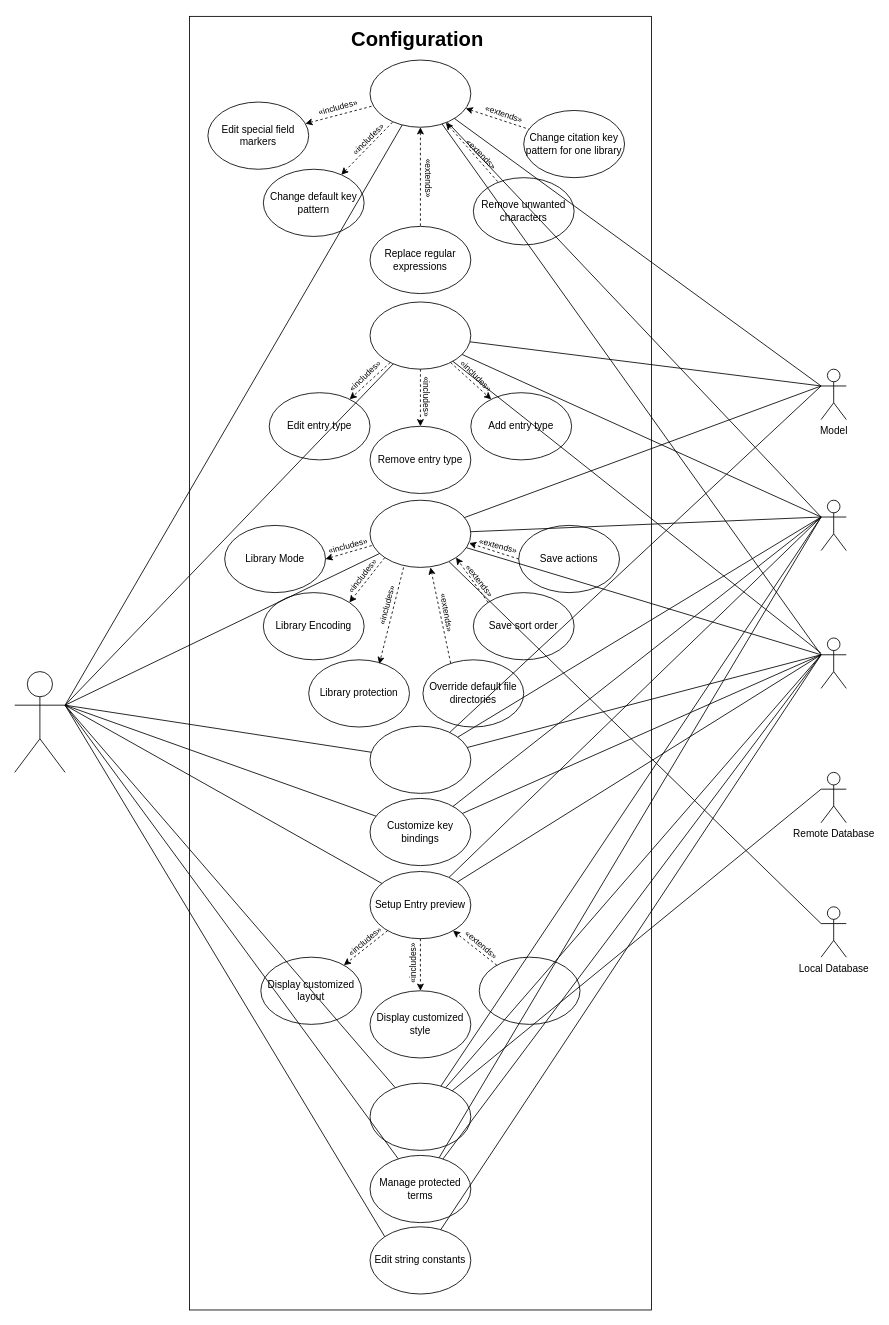
Image size: 889x1325. Some labels were removed from this diagram. The box of each missing label's shape, as (x1, y1, x2, y2) in pixels:
Customize entry types: (369, 301, 471, 369)
Customize general fields: (369, 725, 471, 793)
Customize the citation key generator: (369, 59, 471, 127)
GUI: (820, 499, 846, 551)
Logic: (820, 637, 846, 688)
Manage external file types: (369, 1082, 471, 1150)
Modify customized preview style: (478, 956, 580, 1024)
Modify library properties: (369, 499, 471, 567)
User: (14, 671, 65, 772)
